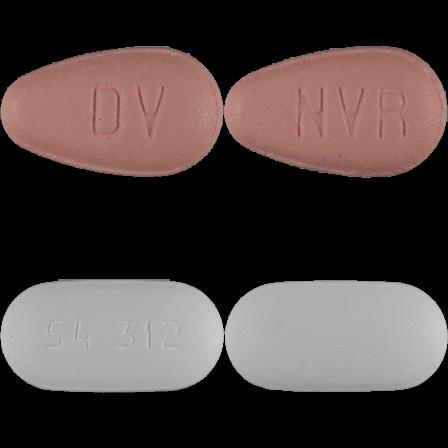63629-2884: (0, 0, 224, 224)
